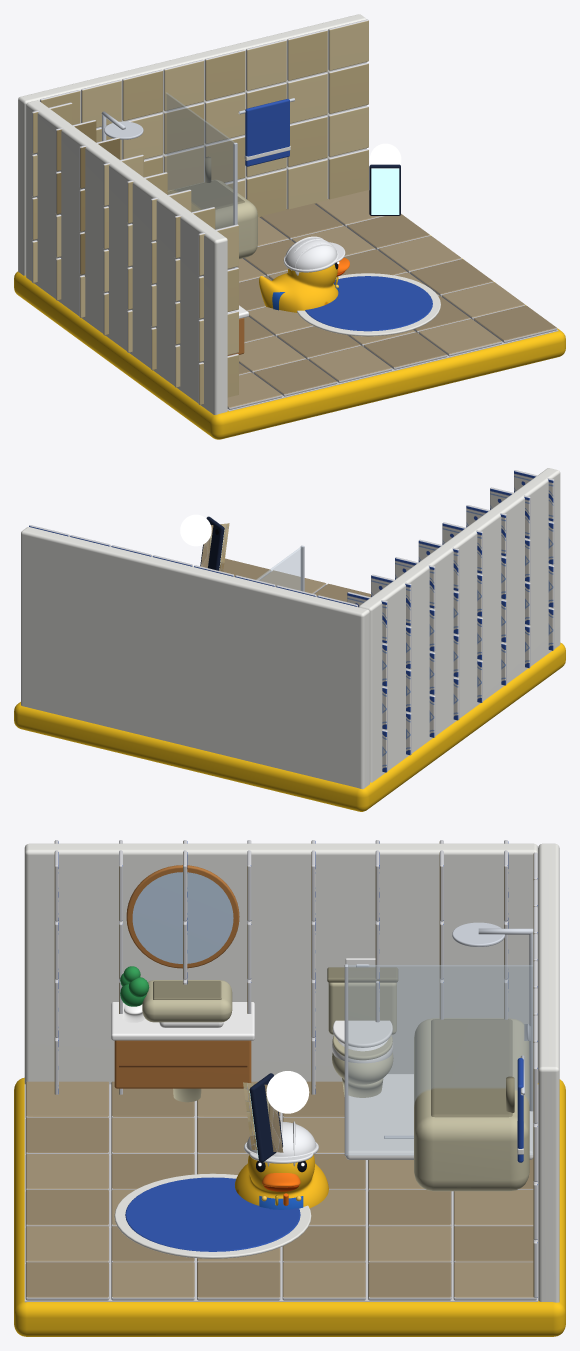
File: obra.glb
The picture shows the model from 3 angles, top to bottom: view 1: azimuth 30°, elevation 25°; view 2: azimuth 150°, elevation 25°; view 3: azimuth 270°, elevation 25°; orthographic projection. The views are drawn at different scales.
Visible parts, largest first — view 1: parede esq, base, vidro.001, parede fundo, tapete.001, cliente_corpo, pano, azulejo.070, azulejo.082, azulejo.088, azulejo.094, azulejo.076 (+55 smaller); view 2: parede fundo, parede esq, base, vidro.001, clarao, azulejo.088, azulejo.094, corpo.001, azulejo.047, azulejo.043, azulejo.063, azulejo.051 (+6 smaller); view 3: parede esq, vidro.001, base, corpo, parede fundo, tapete.001, dentro, vidro.002, armario, tabuleiro, soalho, azulejo.094 (+46 smaller).
Boxes of the visible parts, <box> form: parede esq: <box>26,100,227,414</box>; base: <box>14,235,565,439</box>; vidro.001: <box>165,93,234,269</box>; parede fundo: <box>18,14,366,275</box>; tapete.001: <box>305,276,432,331</box>; cliente_corpo: <box>259,264,338,312</box>; pano: <box>245,98,289,166</box>; azulejo.070: <box>253,359,337,396</box>; azulejo.082: <box>363,332,447,369</box>; azulejo.088: <box>418,319,502,356</box>; azulejo.094: <box>473,305,557,342</box>; azulejo.076: <box>308,345,392,383</box>; parede fundo: <box>21,527,369,789</box>; parede esq: <box>359,468,560,782</box>; base: <box>14,642,565,811</box>; vidro.001: <box>256,546,302,590</box>; clarao: <box>180,514,211,546</box>; azulejo.088: <box>259,570,326,593</box>; azulejo.094: <box>223,558,271,580</box>; corpo.001: <box>200,516,224,570</box>; azulejo.047: <box>418,539,459,590</box>; azulejo.043: <box>395,557,435,608</box>; azulejo.063: <box>514,470,554,521</box>; azulejo.051: <box>442,522,482,573</box>; parede esq: <box>24,843,538,1084</box>; vidro.001: <box>347,965,532,1155</box>; base: <box>14,1077,565,1336</box>; corpo: <box>414,1018,529,1191</box>; parede fundo: <box>538,843,559,1302</box>; tapete.001: <box>125,1177,300,1251</box>; dentro: <box>431,1019,512,1117</box>; vidro.002: <box>132,872,233,963</box>; armario: <box>114,1040,251,1088</box>; tabuleiro: <box>345,1074,533,1159</box>; soalho: <box>24,1084,538,1302</box>; azulejo.094: <box>25,1262,109,1300</box>.
Size of what is drawn, in the model's own units: 12.91 by 6.92 by 12.9.
46 materials, 6 textured.
